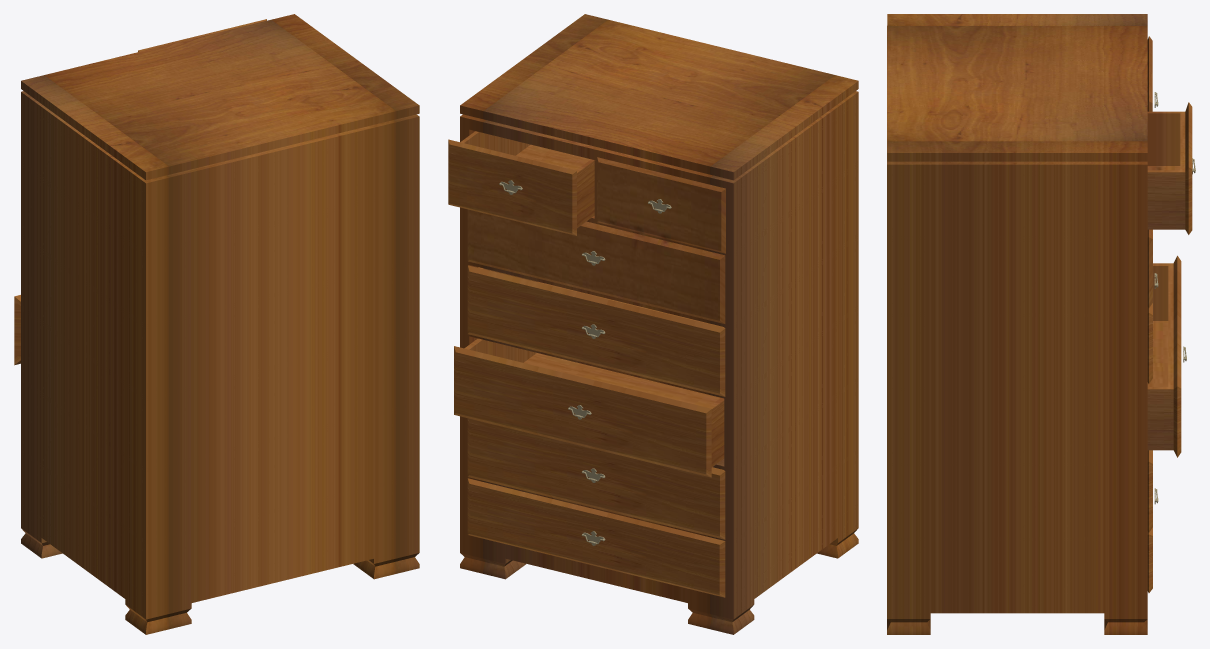
The model's file is dresser.fbx.
3 renders of one model, left to right at view 1: azimuth 30°, elevation 25°; view 2: azimuth 150°, elevation 25°; view 3: azimuth 270°, elevation 25°, orthographic. The views are drawn at different scales.
Parts seen in each view (by area): view 1: dresser; view 2: dresser, top_drawer4, top_drawer3, top_drawer1, top_drawer5, top_drawer6, top_drawer, top_drawer2; view 3: dresser, top_drawer4, top_drawer, top_drawer5, top_drawer1, top_drawer3, top_drawer2.
Boxes of the visible parts, <box> form: dresser: <box>21,14,419,634</box>; dresser: <box>460,14,858,634</box>; top_drawer4: <box>454,338,724,477</box>; top_drawer3: <box>467,265,725,396</box>; top_drawer1: <box>467,209,725,323</box>; top_drawer5: <box>467,418,725,539</box>; top_drawer6: <box>467,478,725,597</box>; top_drawer: <box>448,131,594,235</box>; top_drawer2: <box>597,157,725,253</box>; dresser: <box>887,14,1147,634</box>; top_drawer4: <box>1147,255,1181,457</box>; top_drawer: <box>1147,102,1192,234</box>; top_drawer5: <box>1147,450,1152,532</box>; top_drawer1: <box>1147,229,1152,308</box>; top_drawer3: <box>1147,303,1152,383</box>; top_drawer2: <box>1147,36,1152,111</box>.
Size of the model in its own units: 4.59 by 7.41 by 4.3.
Materials: 2 (1 with a texture image).
